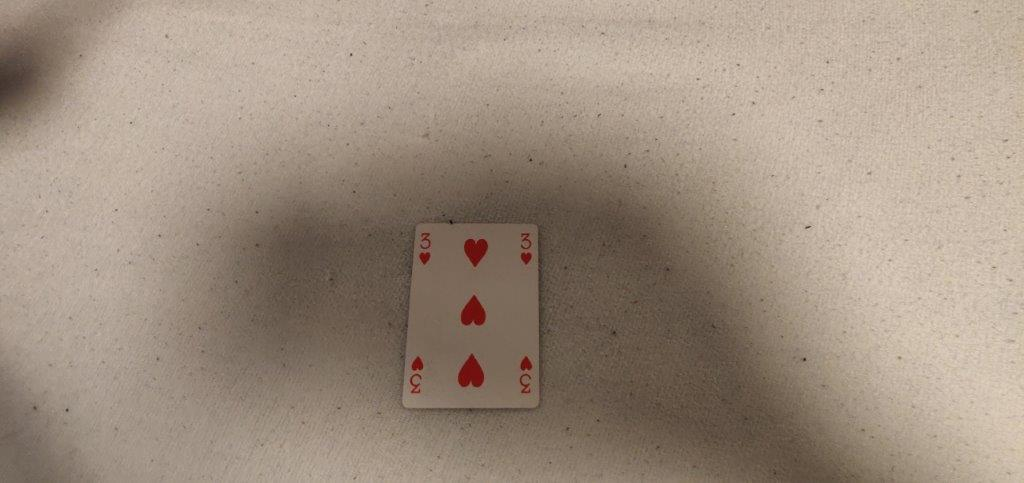3H: (415, 229, 437, 271), (519, 229, 535, 270)
